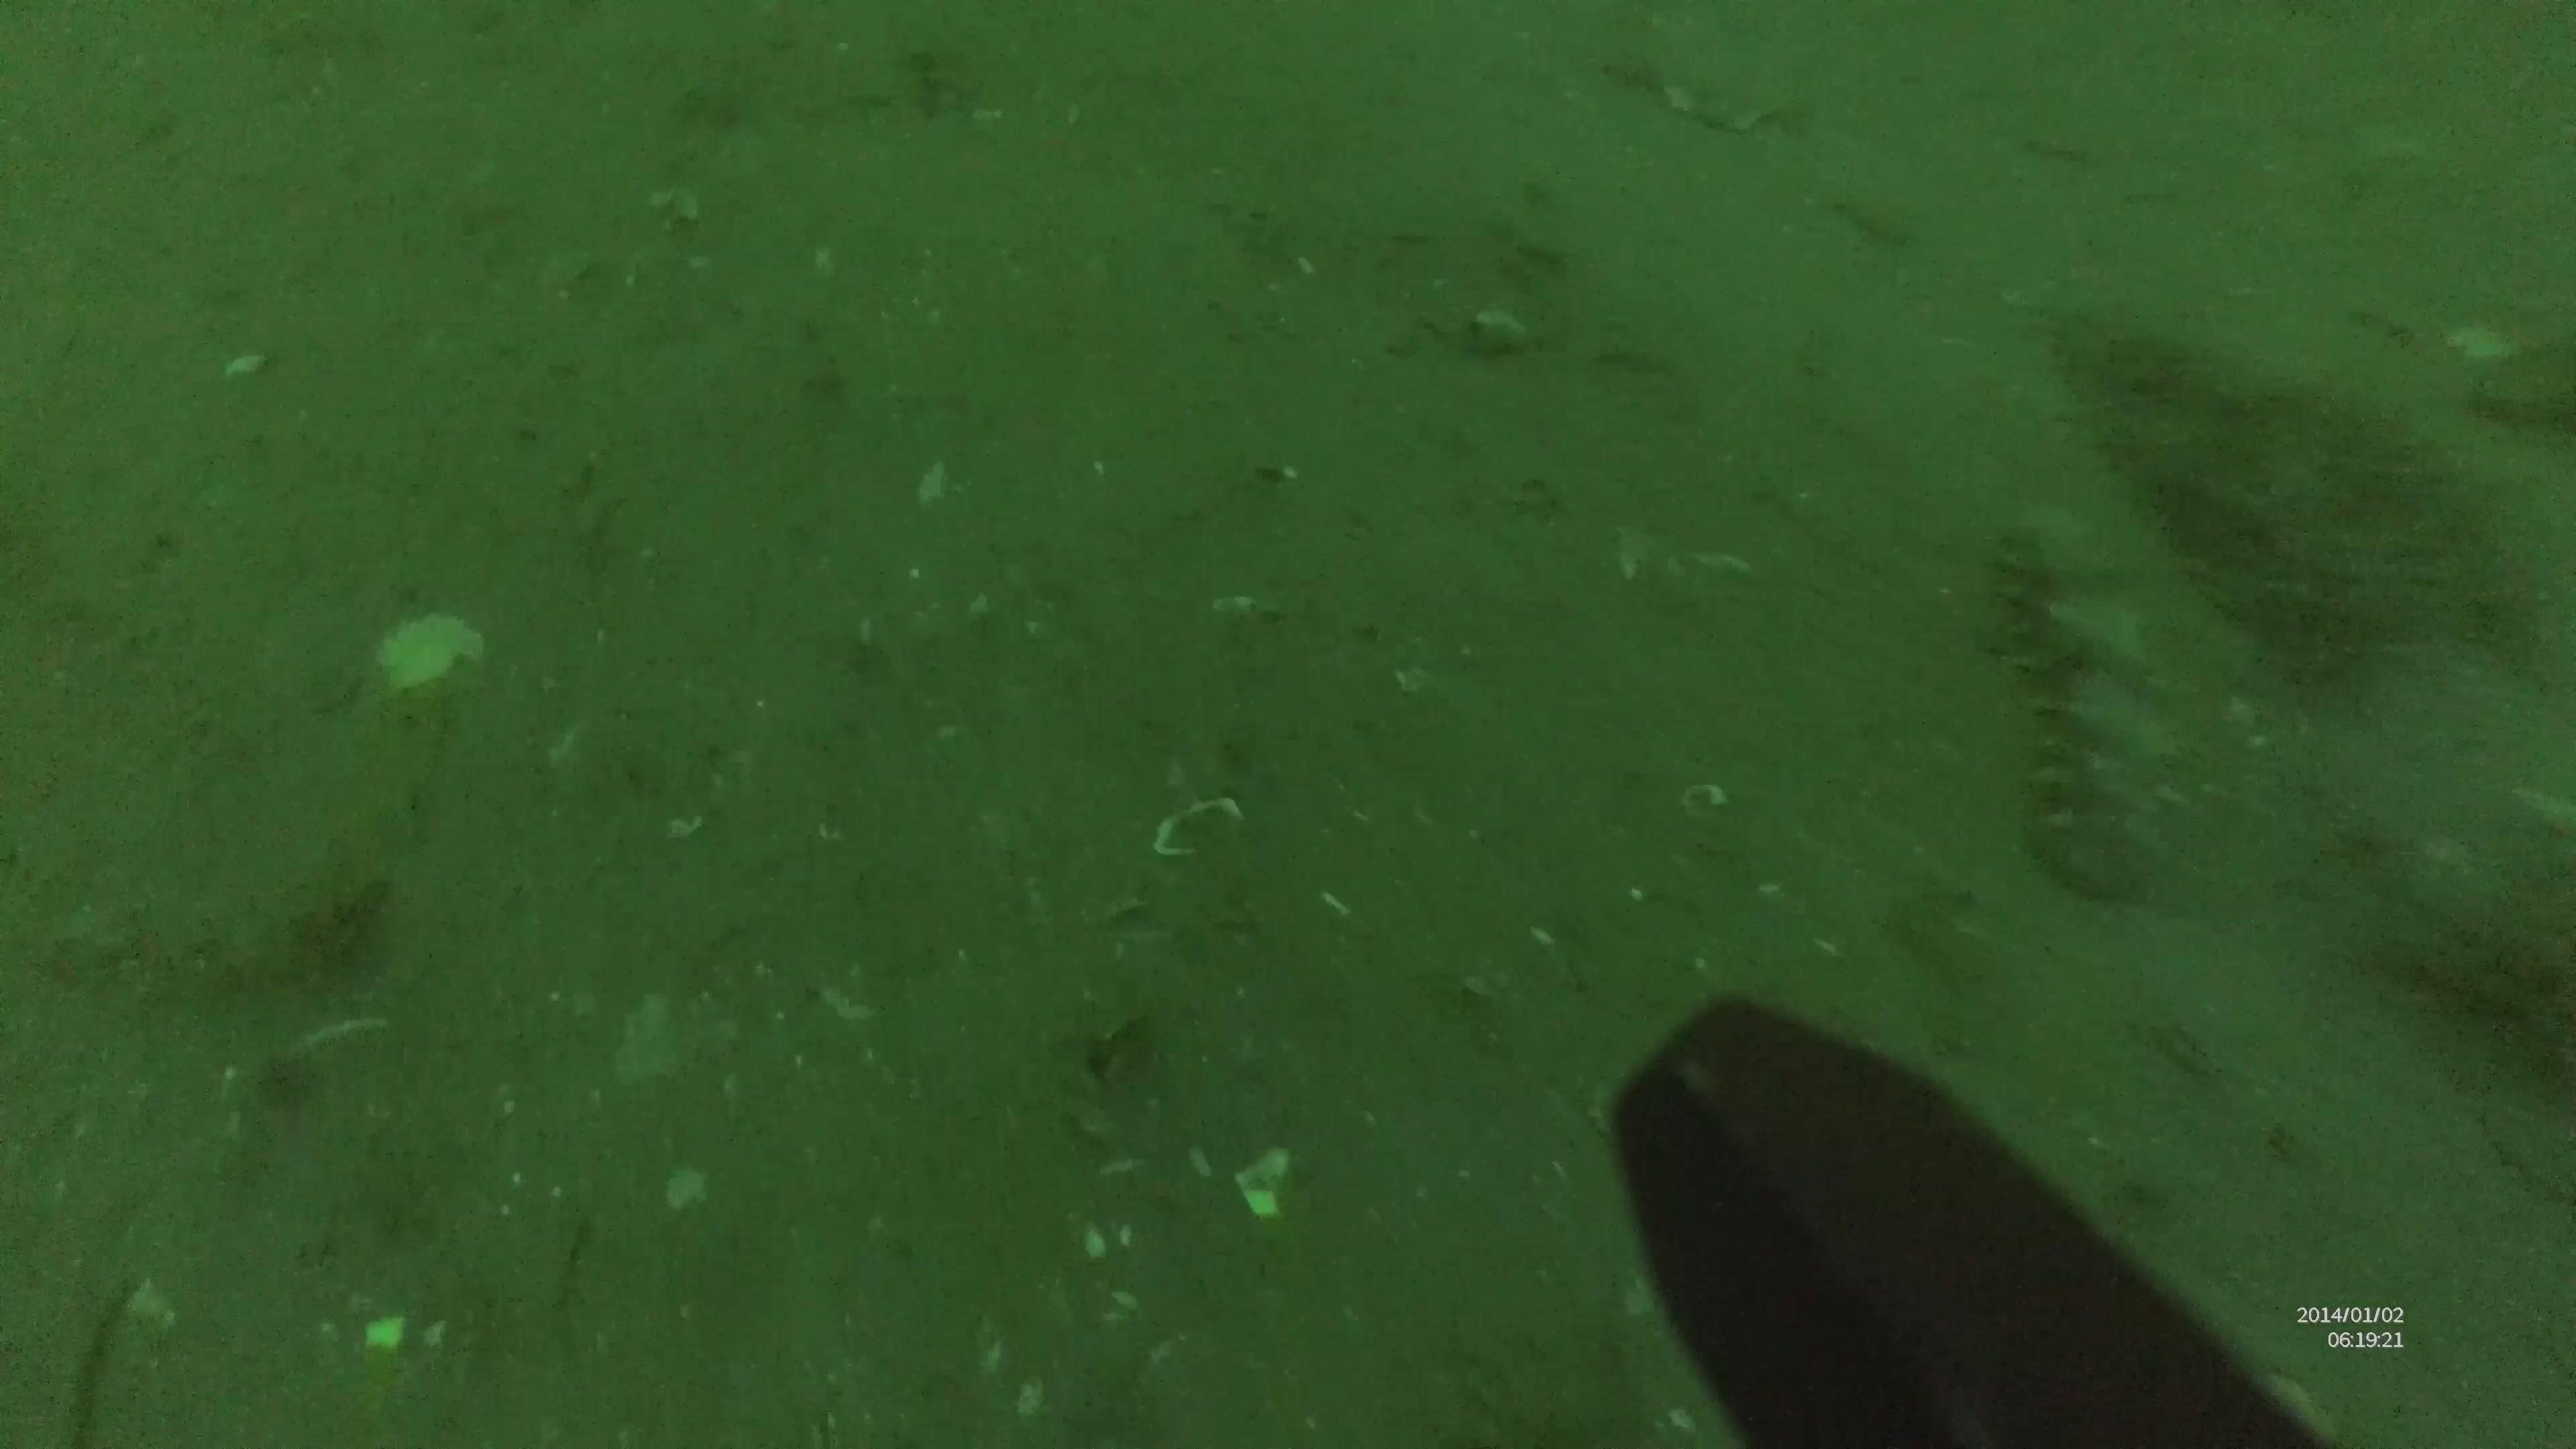holothurian: (1999, 497, 2178, 893)
scallop: (1651, 34, 1787, 133), (370, 596, 483, 686), (1150, 786, 1244, 867)
